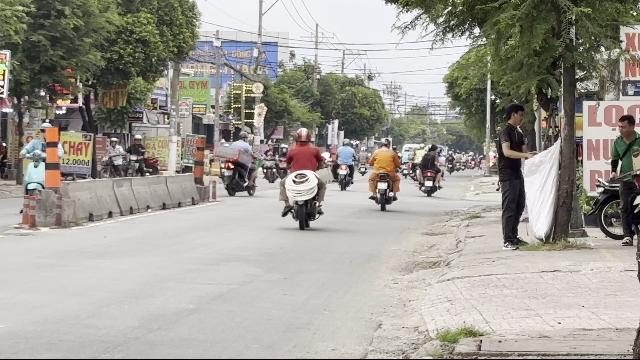helmet: (295, 128, 311, 144)
motorcyclist: (277, 127, 327, 229)
